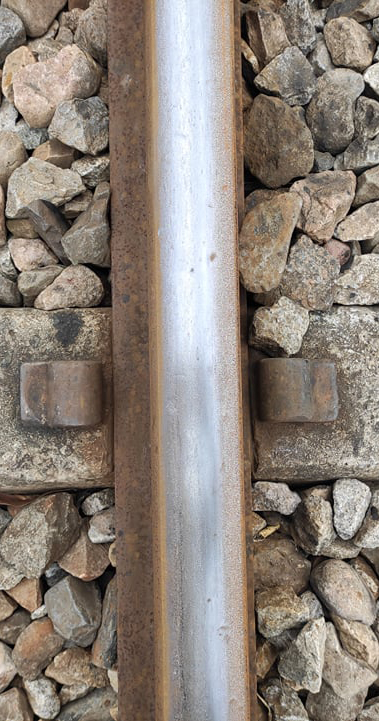error1: (256, 329, 352, 457), (18, 329, 105, 464)
